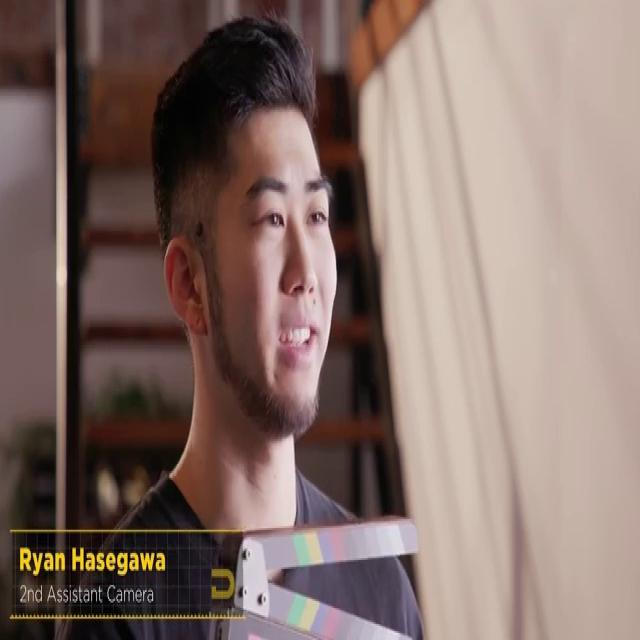Clapperboard: (206, 519, 418, 638)
